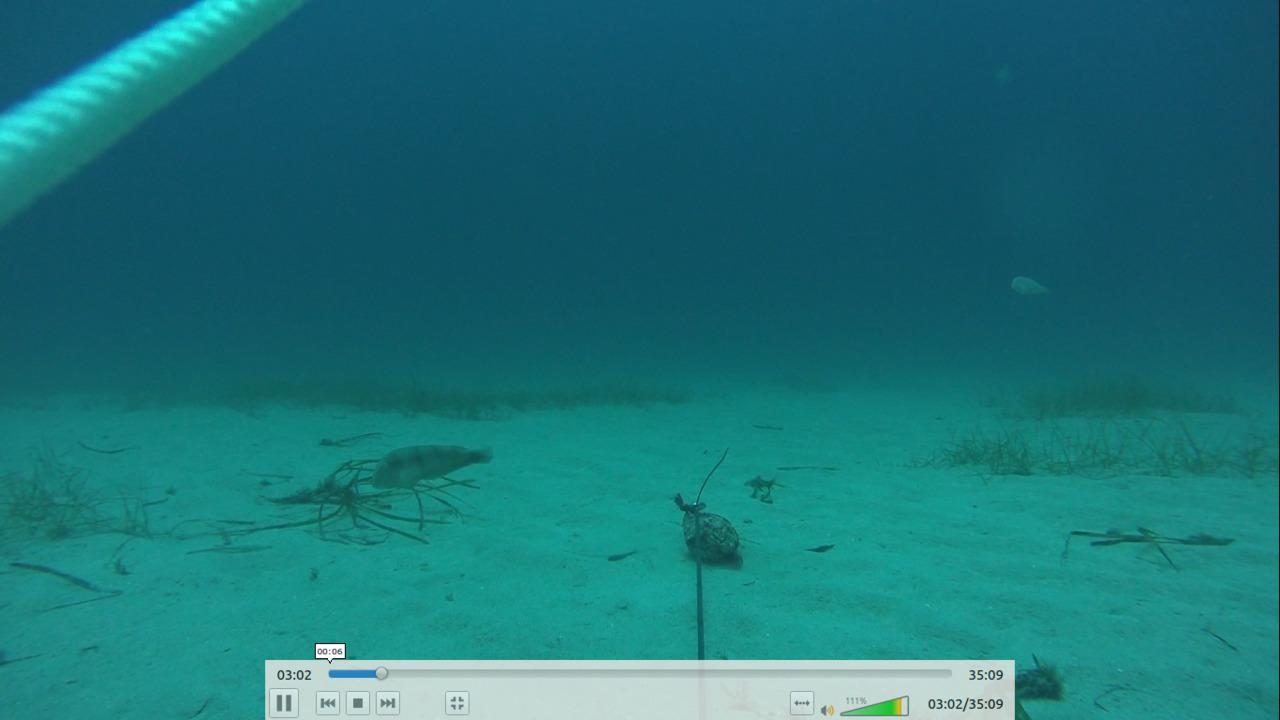raor: (369, 441, 493, 486), (1010, 274, 1052, 296)
